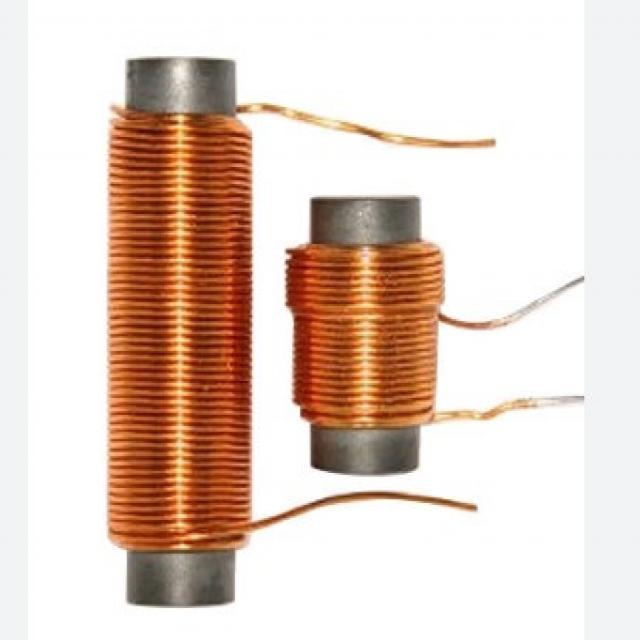Inductor: (109, 58, 495, 606), (288, 198, 571, 473)
